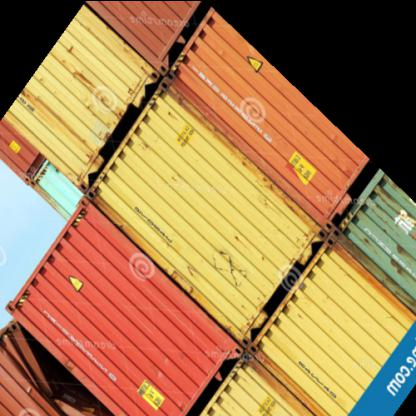Damage: (15, 318, 110, 416), (353, 224, 412, 280), (195, 250, 244, 288)
